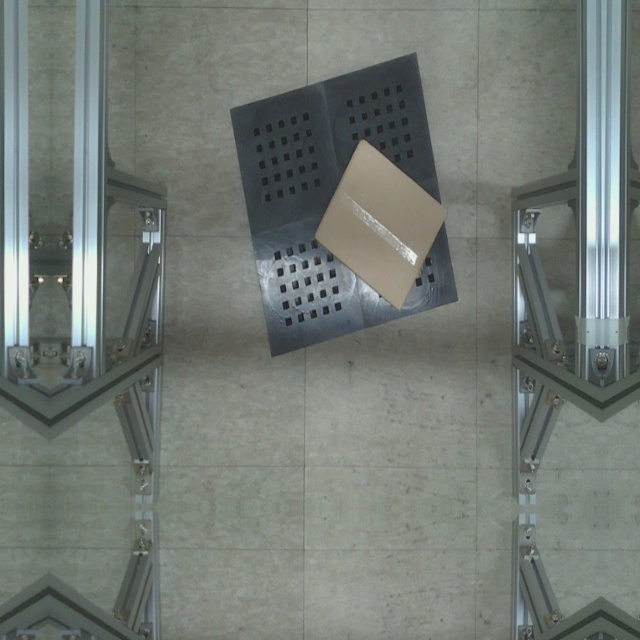box: (316, 138, 450, 313)
pallet: (222, 43, 469, 362)
